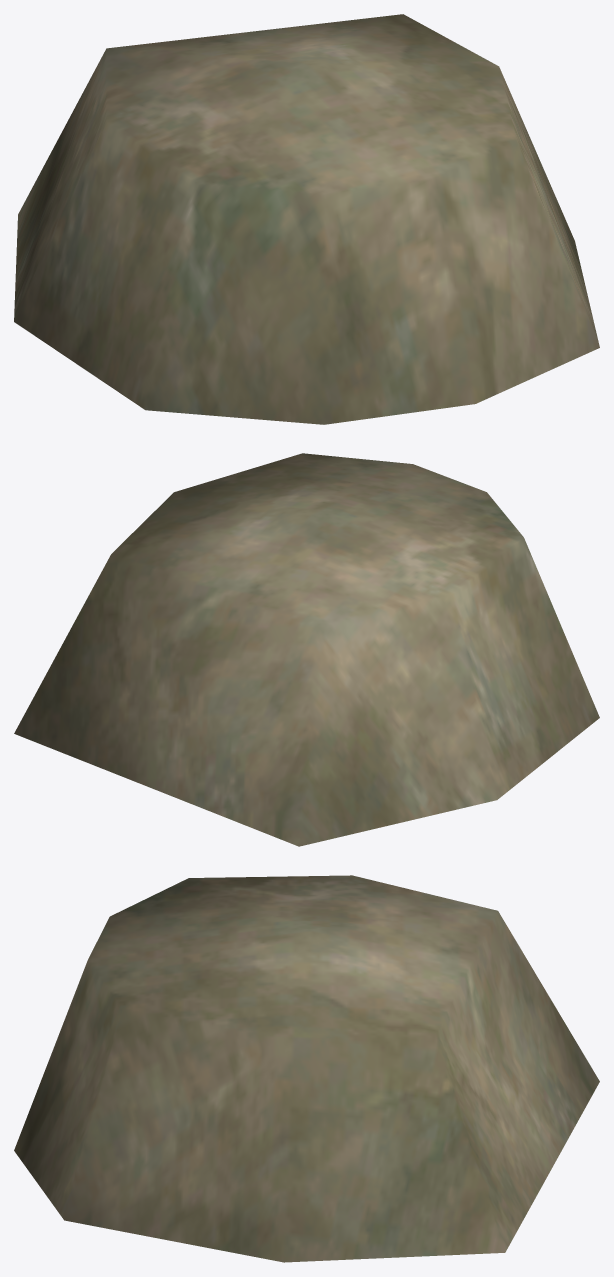
File: EKH_JAIL_PS_JA_LADDER_CAVE_CAP.fbx
3 views of the same model, one above another, from view 1: azimuth 30°, elevation 25°; view 2: azimuth 150°, elevation 25°; view 3: azimuth 270°, elevation 25° (orthographic). The views are drawn at different scales.
Parts seen in each view (by area): view 1: EKH_JAIL_PS_JA_LADDER_CAVE_CAP; view 2: EKH_JAIL_PS_JA_LADDER_CAVE_CAP; view 3: EKH_JAIL_PS_JA_LADDER_CAVE_CAP.
Boxes of the visible parts, x1=… form: EKH_JAIL_PS_JA_LADDER_CAVE_CAP: x1=14, y1=14, x2=599, y2=424; EKH_JAIL_PS_JA_LADDER_CAVE_CAP: x1=14, y1=453, x2=599, y2=846; EKH_JAIL_PS_JA_LADDER_CAVE_CAP: x1=14, y1=875, x2=599, y2=1262.
Bounding box in the file's own units: 9347 × 4014 × 9921.
Materials: 1 (1 with a texture image).
